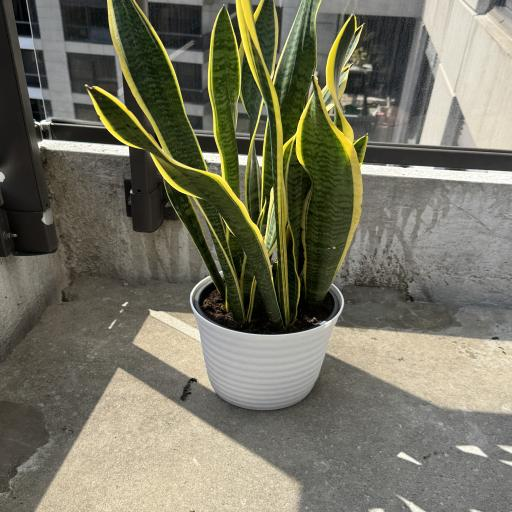Plant Pot: (188, 265, 345, 411)
